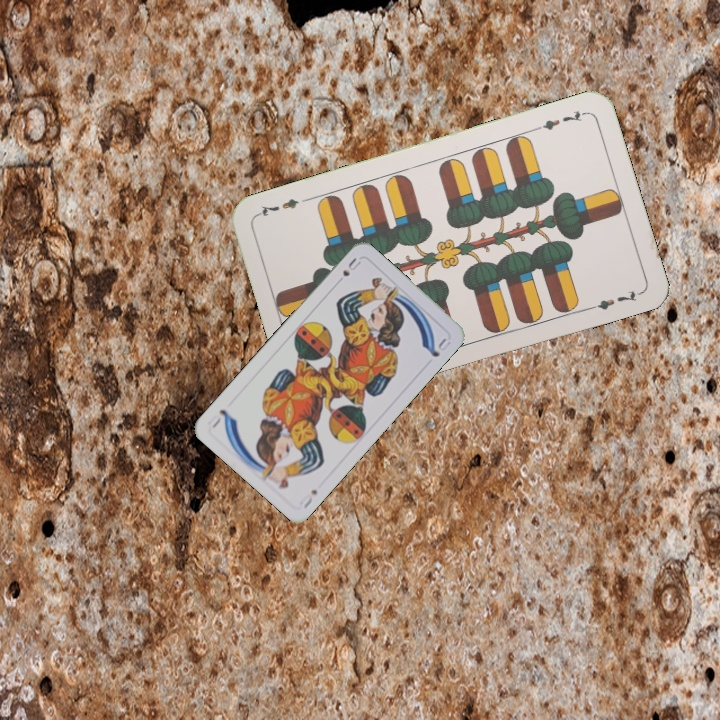E7: (531, 106, 589, 134)
SU: (338, 254, 364, 279), (296, 485, 320, 511)
